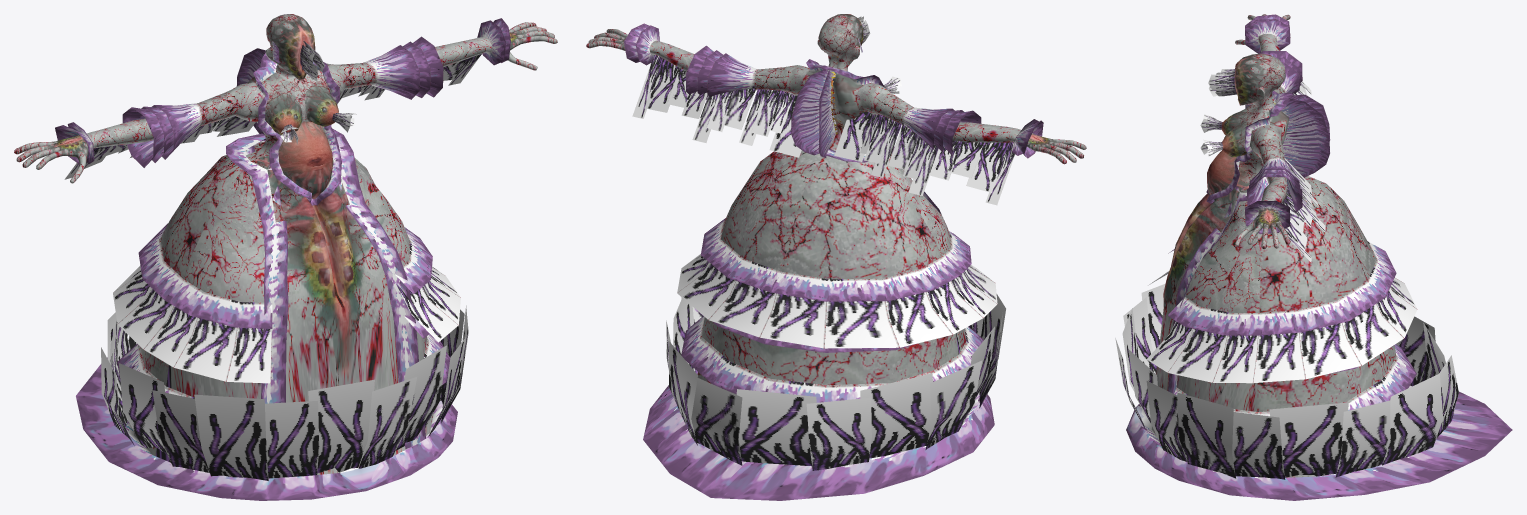
Rendered from midwife.fbx.
The picture shows the model from 3 angles, left to right: view 1: azimuth 30°, elevation 25°; view 2: azimuth 150°, elevation 25°; view 3: azimuth 270°, elevation 25°; orthographic projection. The views are drawn at different scales.
Parts seen in each view (by area): view 1: SlimeMidwife1_pCube3; view 2: SlimeMidwife1_pCube3; view 3: SlimeMidwife1_pCube3.
Part boxes in pixels (x1,y1,x2,y2): SlimeMidwife1_pCube3: (14,14,557,500); SlimeMidwife1_pCube3: (586,14,1086,500); SlimeMidwife1_pCube3: (1115,14,1512,500).
Size of the model in its own units: 28.26 by 21.62 by 20.48.
